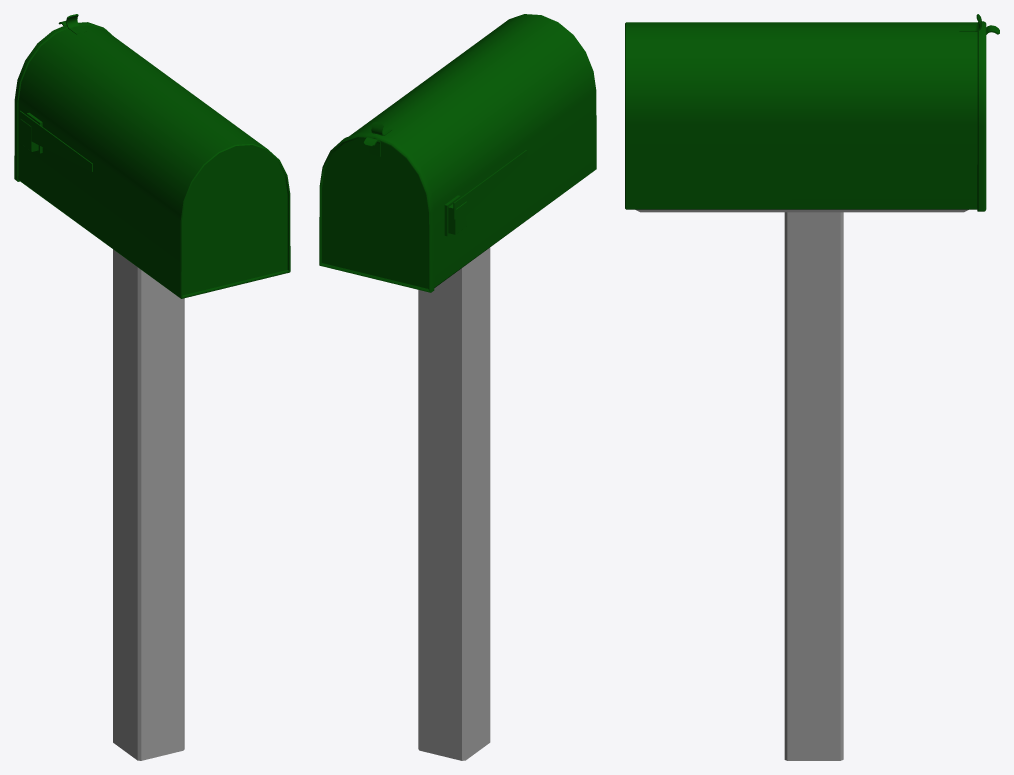
File: Mailbox.fbx
3 views of the same model, side by side, from view 1: azimuth 30°, elevation 25°; view 2: azimuth 150°, elevation 25°; view 3: azimuth 270°, elevation 25° (orthographic). The views are drawn at different scales.
Visible parts, largest first — view 1: pCylinder2, pCube1, pCube2, pCylinder3, pCube8; view 2: pCube1, pCylinder2, pCylinder3, pCube2, pCube8; view 3: pCylinder2, pCube1, pCylinder3, pCube7.
Boxes of the visible parts, x1=… form: pCylinder2: x1=18, y1=25, x2=290, y2=298; pCube1: x1=113, y1=249, x2=184, y2=760; pCube2: x1=19, y1=110, x2=92, y2=171; pCylinder3: x1=14, y1=22, x2=111, y2=181; pCube8: x1=20, y1=112, x2=42, y2=153; pCube1: x1=418, y1=247, x2=490, y2=760; pCylinder2: x1=349, y1=14, x2=596, y2=287; pCylinder3: x1=319, y1=132, x2=434, y2=292; pCube2: x1=453, y1=150, x2=527, y2=219; pCube8: x1=444, y1=195, x2=466, y2=236; pCylinder2: x1=625, y1=22, x2=977, y2=209; pCube1: x1=784, y1=212, x2=843, y2=760; pCylinder3: x1=977, y1=21, x2=986, y2=211; pCube7: x1=635, y1=209, x2=968, y2=212.
Bounding box in the file's own units: 7.71 × 41.11 × 19.06.
